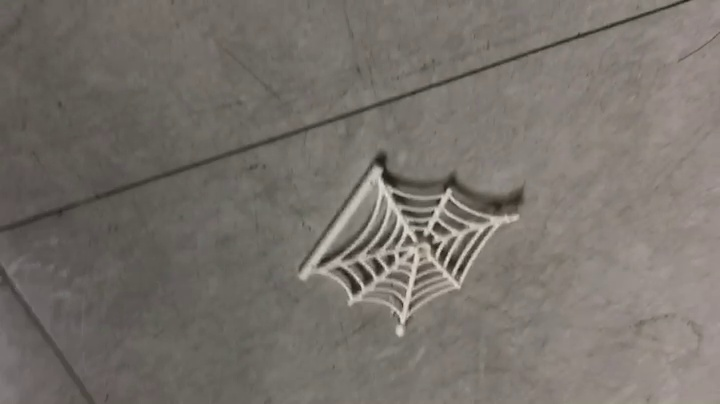web: (296, 151, 526, 339)
